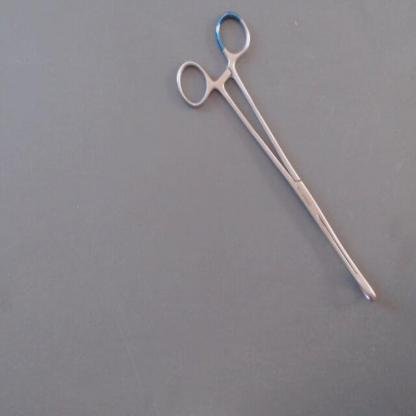Sponge Forceps: (170, 4, 388, 316)
